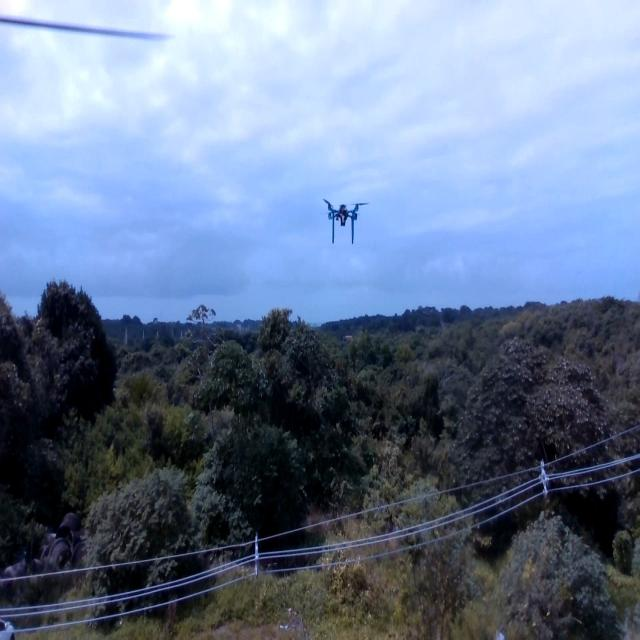-uav-: (316, 191, 376, 252)
